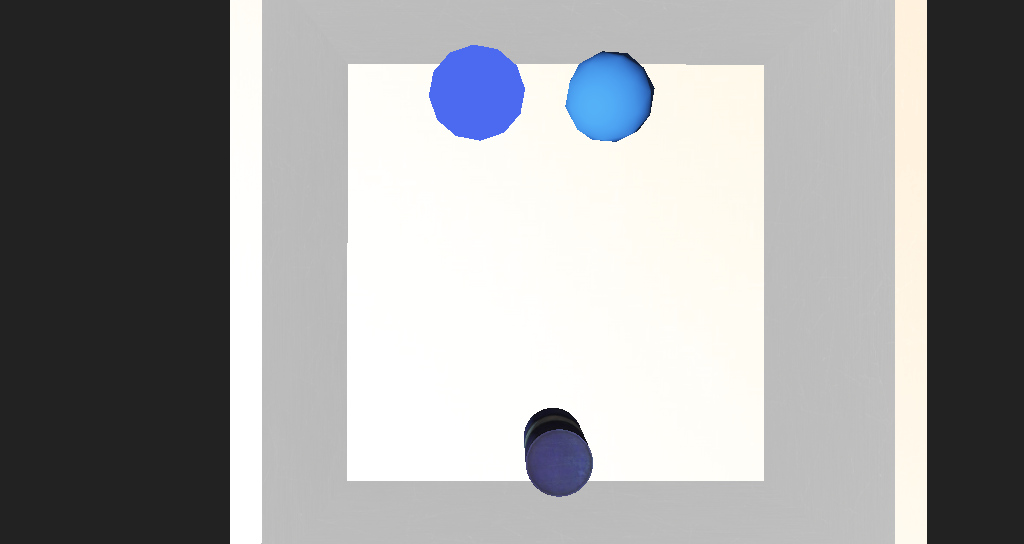cone: (482, 339, 529, 377)
cylinder: (411, 160, 478, 212)
sphere: (515, 160, 576, 203)
